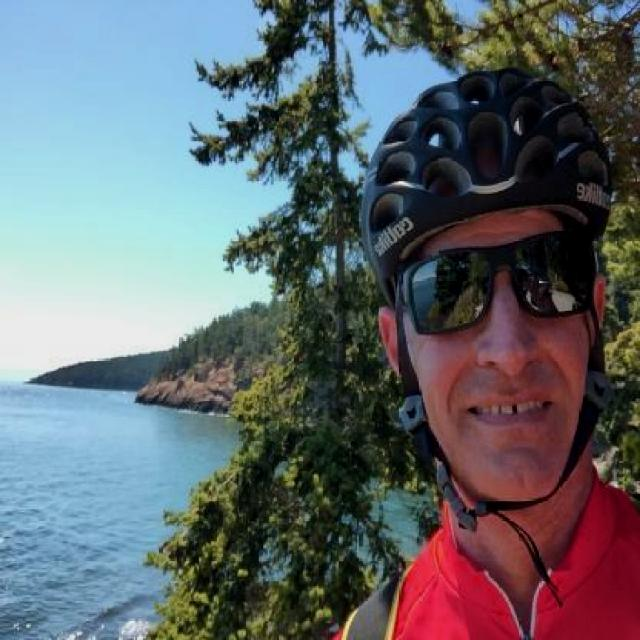face_nomask: (420, 227, 594, 447)
glasses: (396, 228, 604, 347)
head_helmet: (344, 69, 608, 262)
person: (337, 71, 640, 640)
